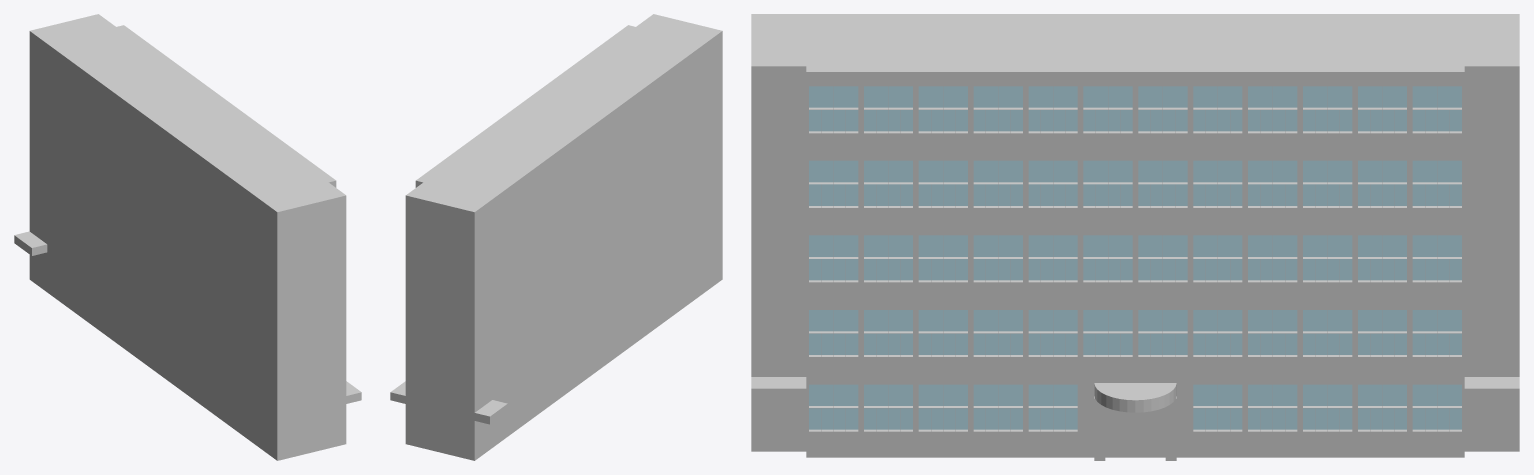
Rendered from 5building.glb.
3 renders of one model, left to right at view 1: azimuth 30°, elevation 25°; view 2: azimuth 150°, elevation 25°; view 3: azimuth 270°, elevation 25°, orthographic. The views are drawn at different scales.
Visible parts, largest first — view 1: main, sidebar-1, sidebar-2, rightside-in-left; view 2: main, sidebar-2, sidebar-1, rightside-in-left; view 3: main, 전면창문, sidebar-1, sidebar-2, Cylinder, leftside-in, rightside-in-right.
Boxes of the visible parts, <box> form: main: <box>47,25,336,447</box>; sidebar-1: <box>259,182,346,460</box>; sidebar-2: <box>29,14,115,291</box>; rightside-in-left: <box>14,231,47,255</box>; main: <box>415,25,704,447</box>; sidebar-2: <box>405,182,492,460</box>; sidebar-1: <box>636,14,722,291</box>; rightside-in-left: <box>474,400,507,424</box>; main: <box>806,14,1464,457</box>; 전면창문: <box>809,86,1461,429</box>; sidebar-1: <box>751,14,806,451</box>; sidebar-2: <box>1464,14,1519,451</box>; Cylinder: <box>1094,383,1176,412</box>; leftside-in: <box>751,377,806,400</box>; rightside-in-right: <box>1464,377,1519,400</box>.
Bounding box in the file's own units: 75 × 155 × 280.
